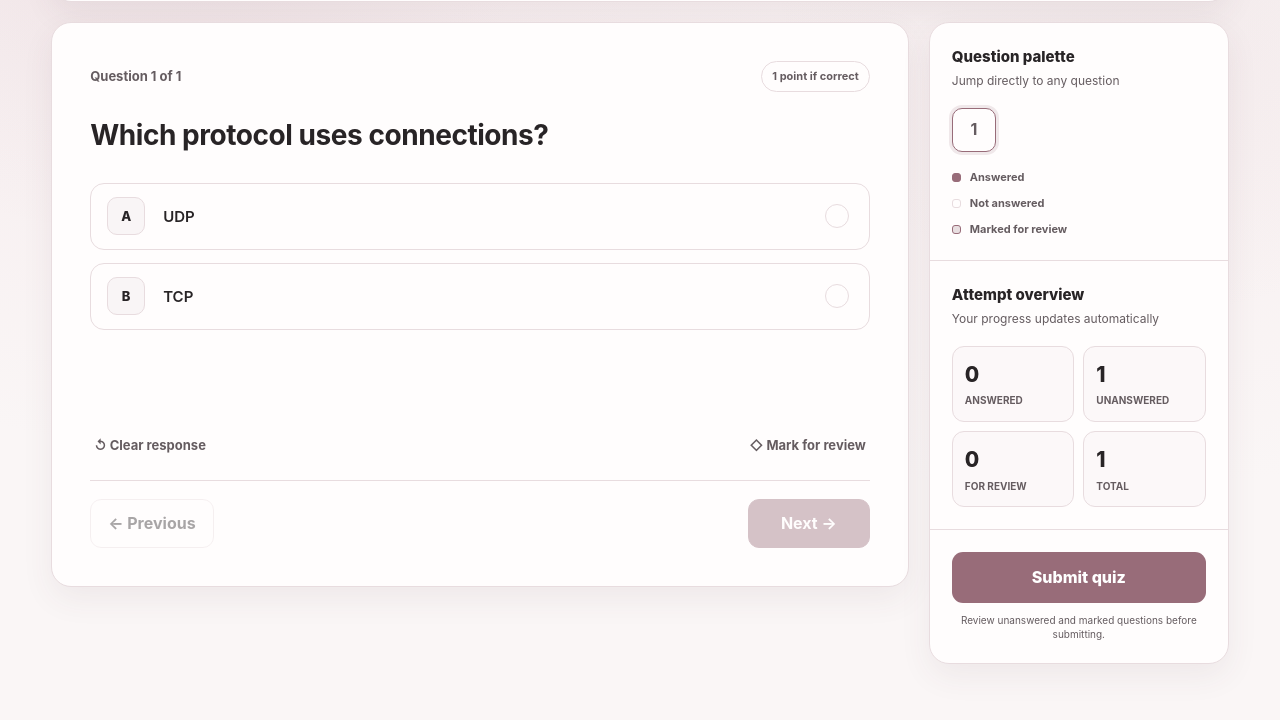
Test case: CSMQ-42: result navigation triggered only by saved attempts › does not navigate after a failed submission
The image size is (1280, 720).
(page scrolled)
Click the button "Submit quiz": (1079, 577) [952,552,1206,603]
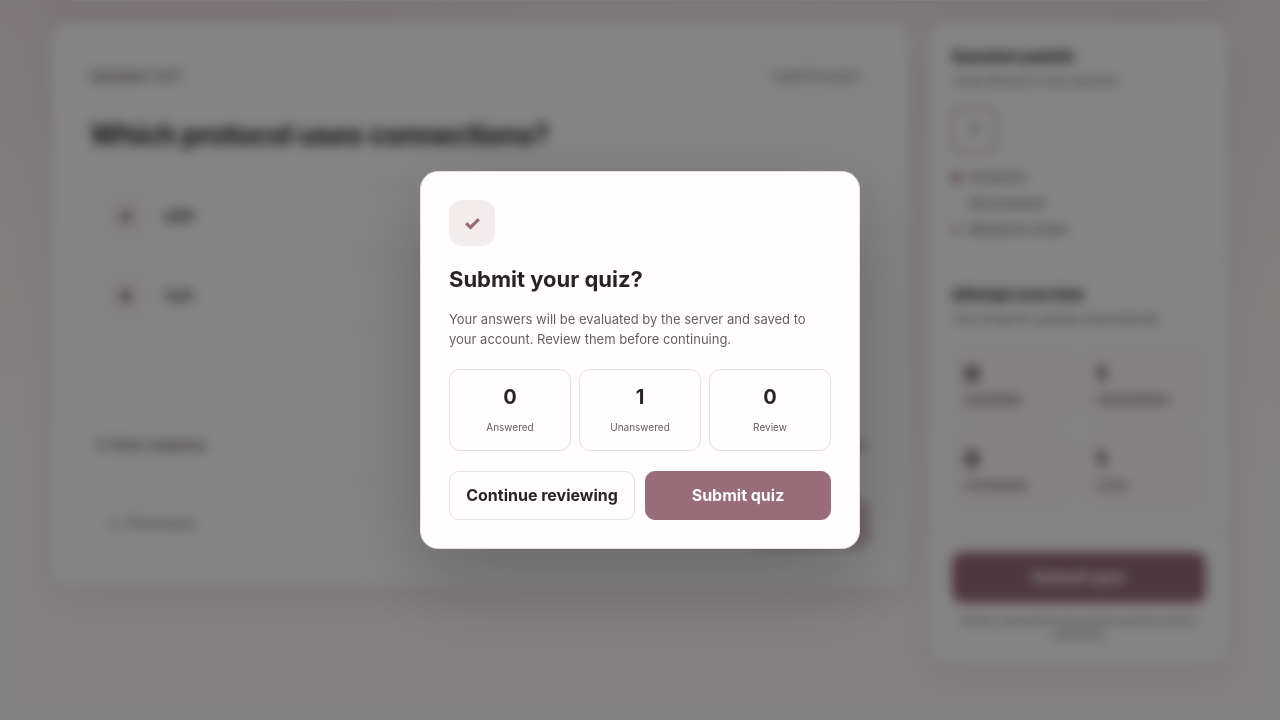
Click the button "Submit quiz": (738, 496) [645,471,831,520]
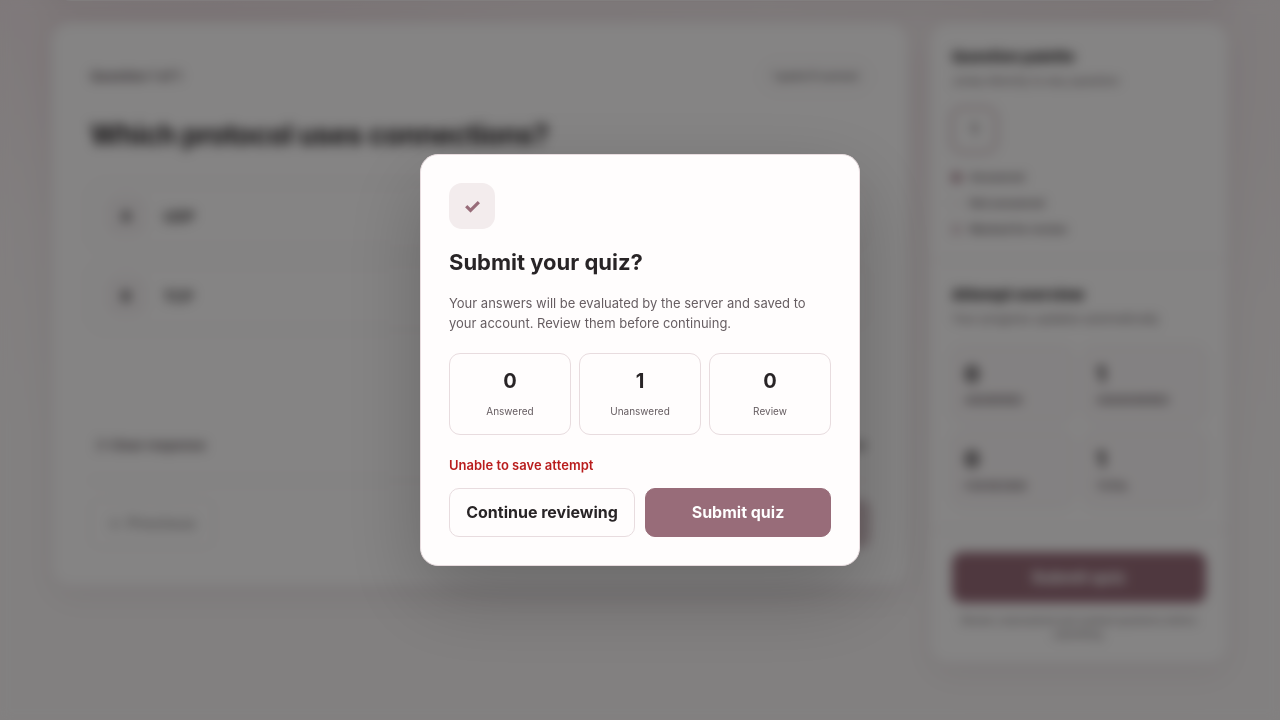
Expected: the message reads "Unable to save attempt", [449,457,593,473]
